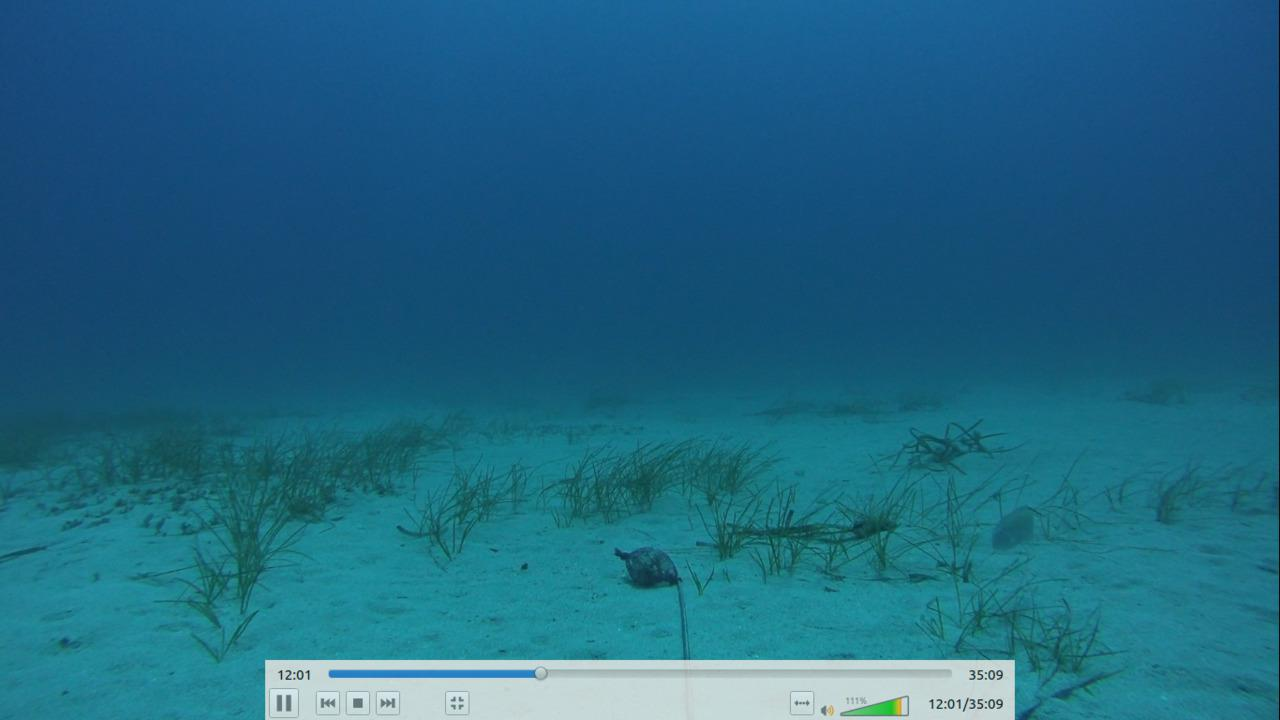raor: (985, 499, 1047, 555)
